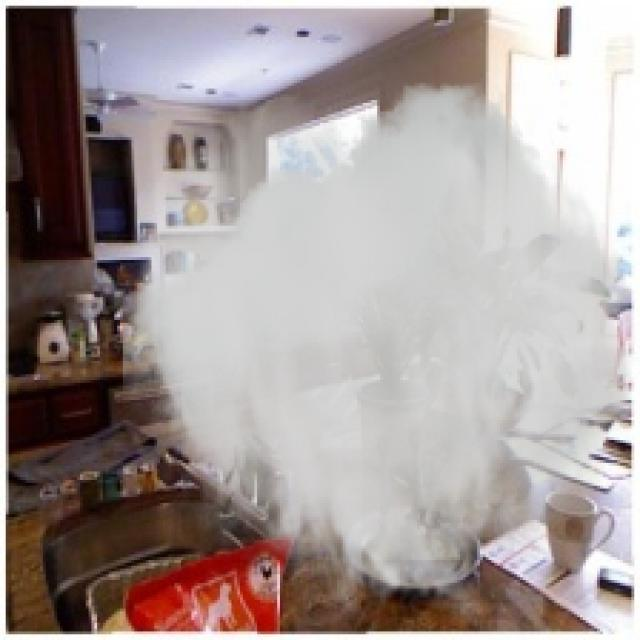smoke: (123, 83, 637, 631)
